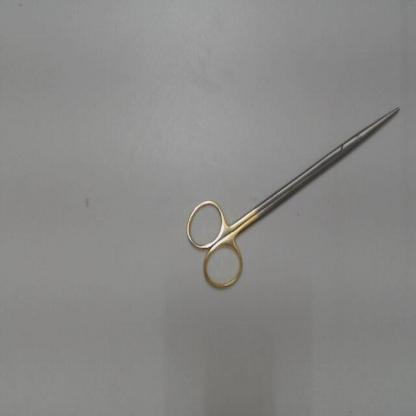7 Metzenbaum Scissors: (181, 102, 404, 296)
